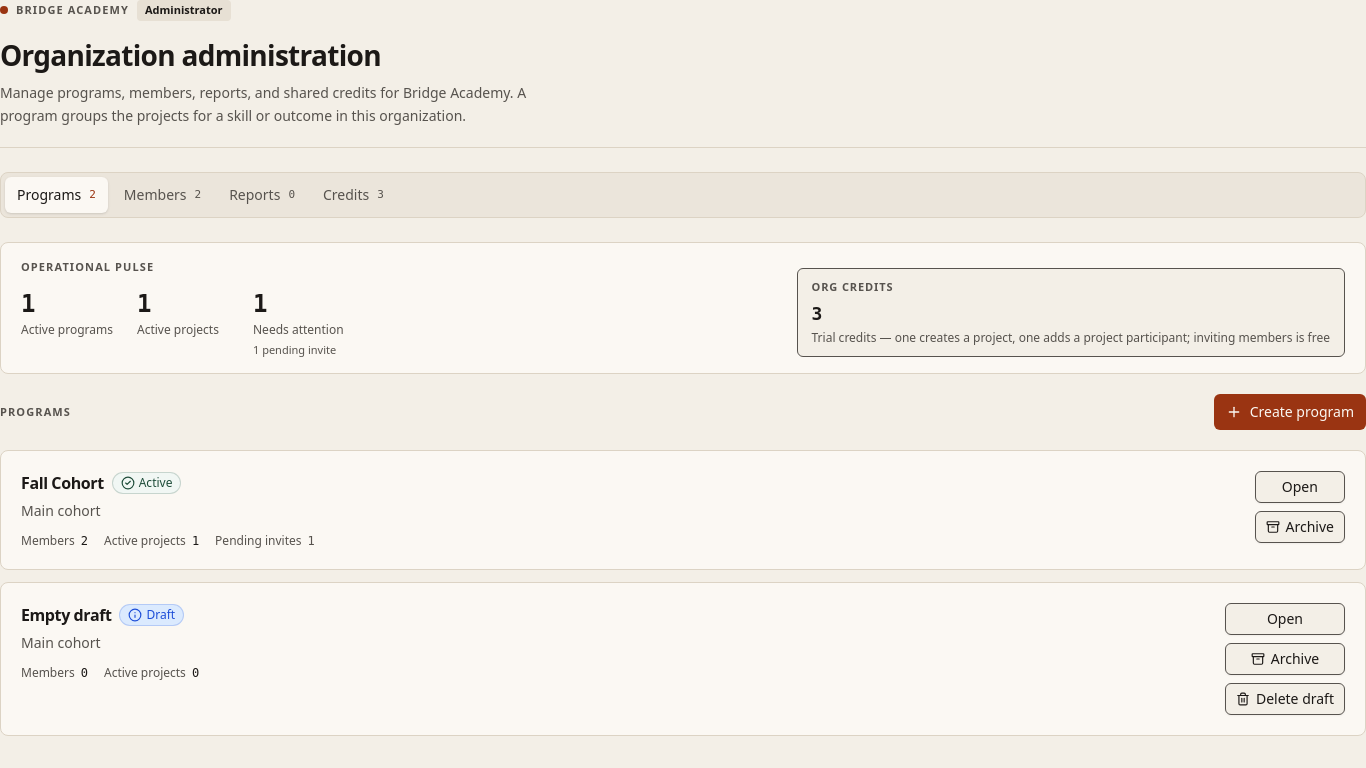
Test case: OrgAdminPage › polls a generating snapshot until it is ready
Expected: the heading "Organization administration" is shown, [0,36,381,74]
Click the button "Reports 0" at (262, 195), box [217,177,307,213]
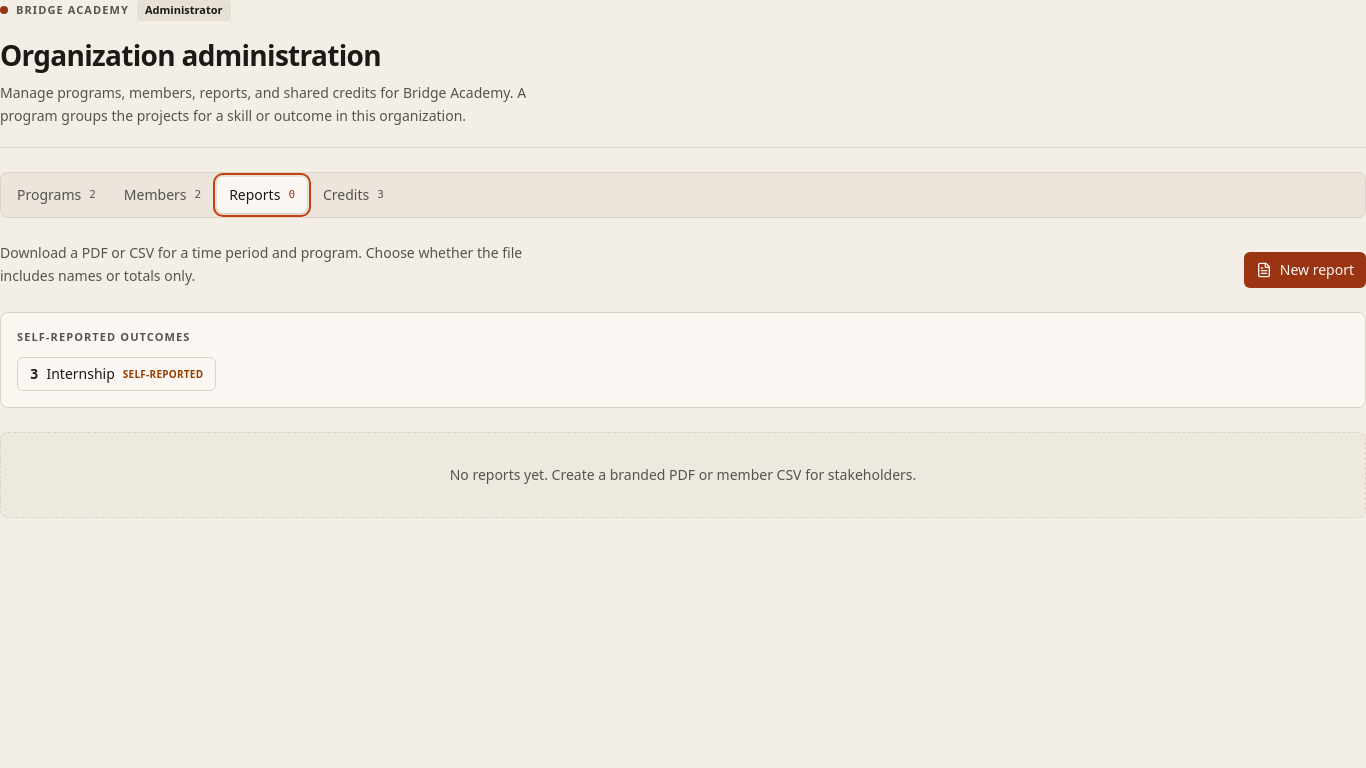
Click the button "New report" at (1305, 270), box [1244,252,1365,288]
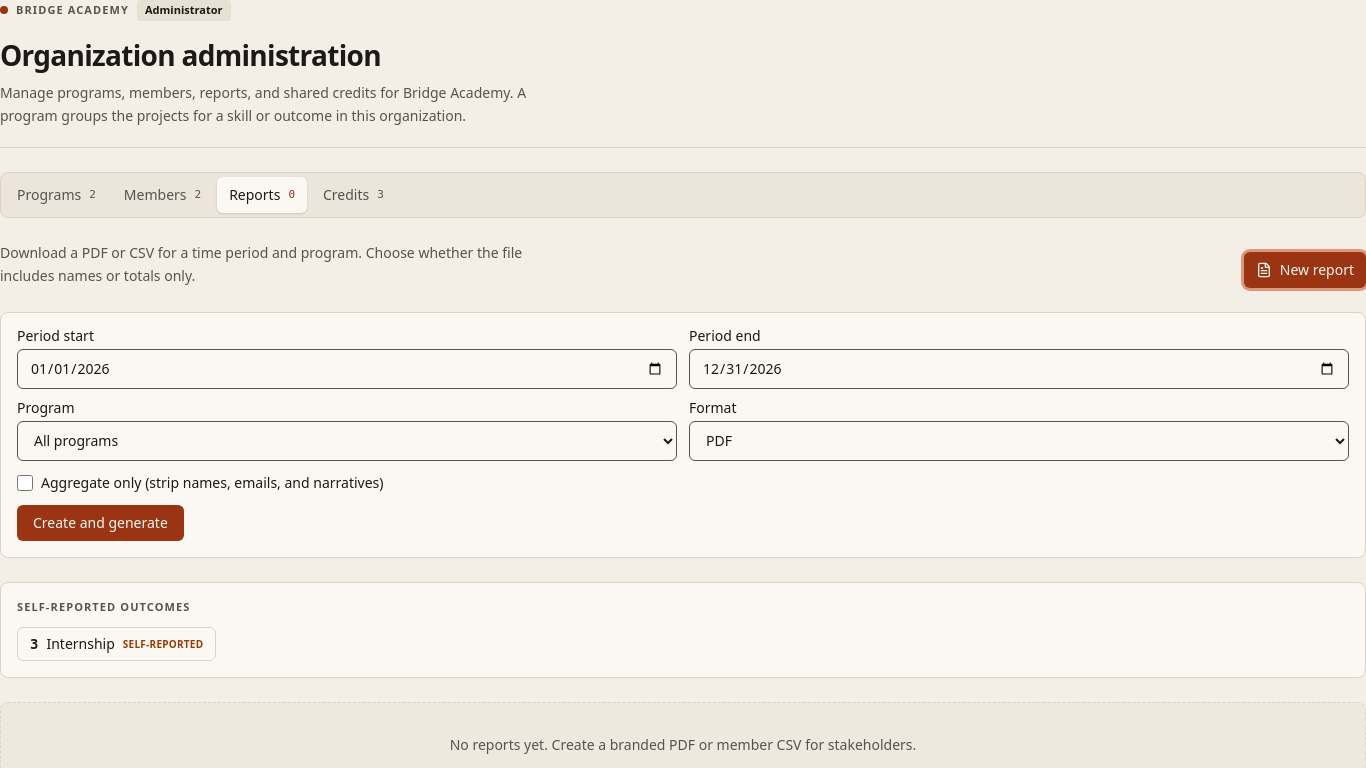
Click the button "Create and generate" at (100, 523), box [17,505,184,541]
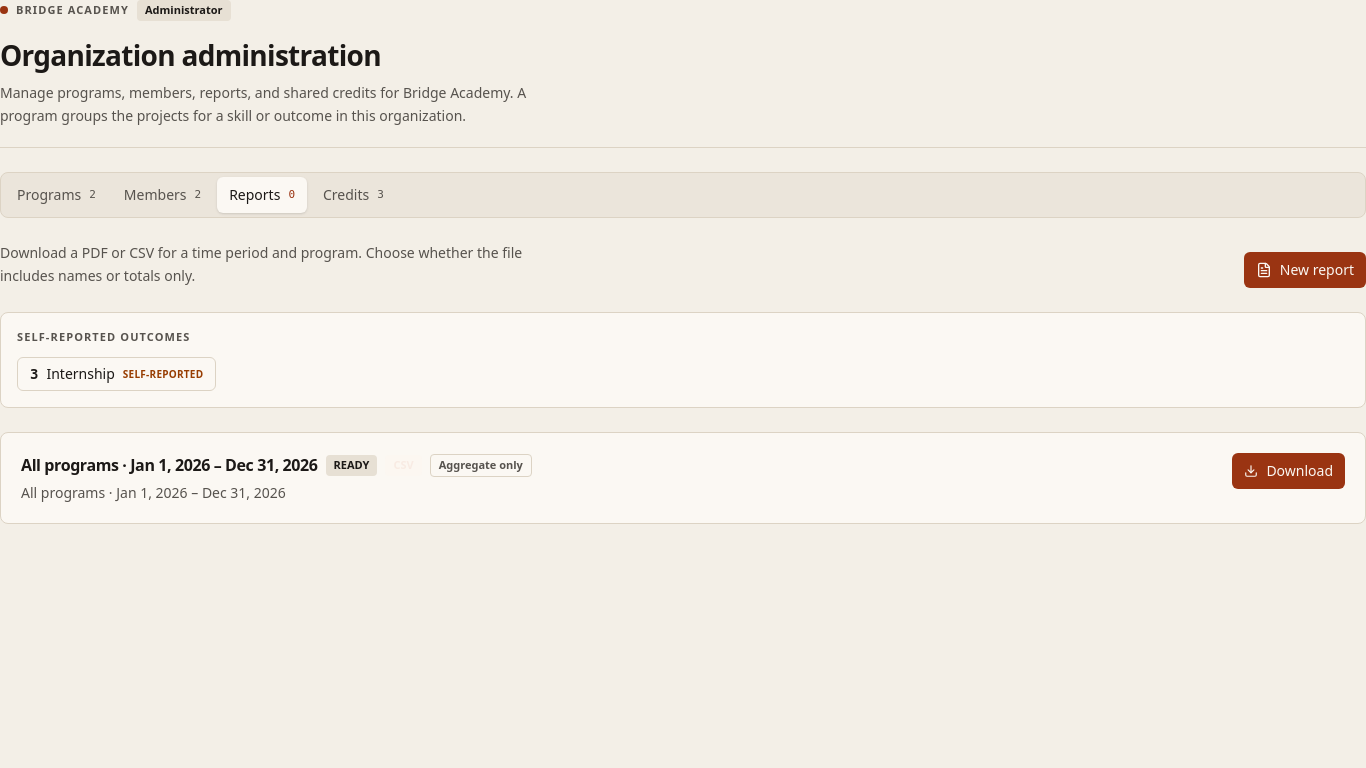
Expected: the text "Ready" is shown, [326,455,378,476]
